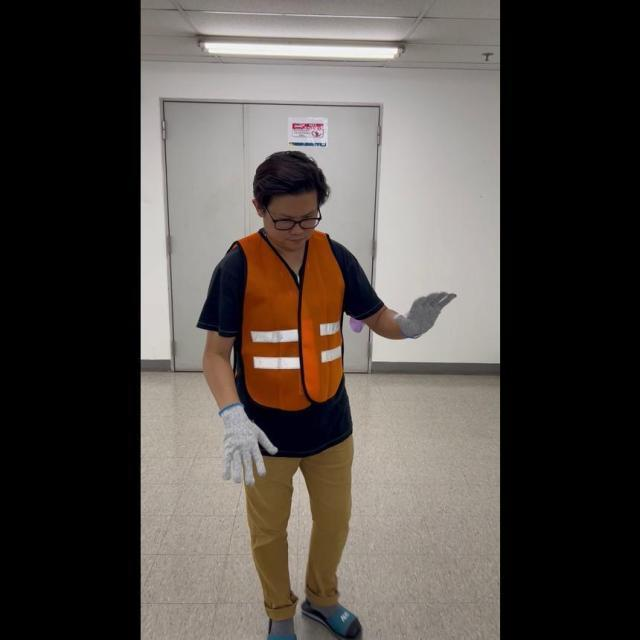gloved_hand: (215, 397, 276, 484), (390, 282, 455, 340)
